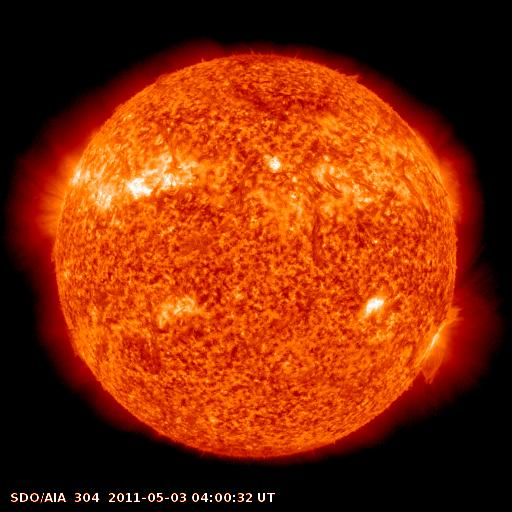prominence: (412, 342, 455, 393)
